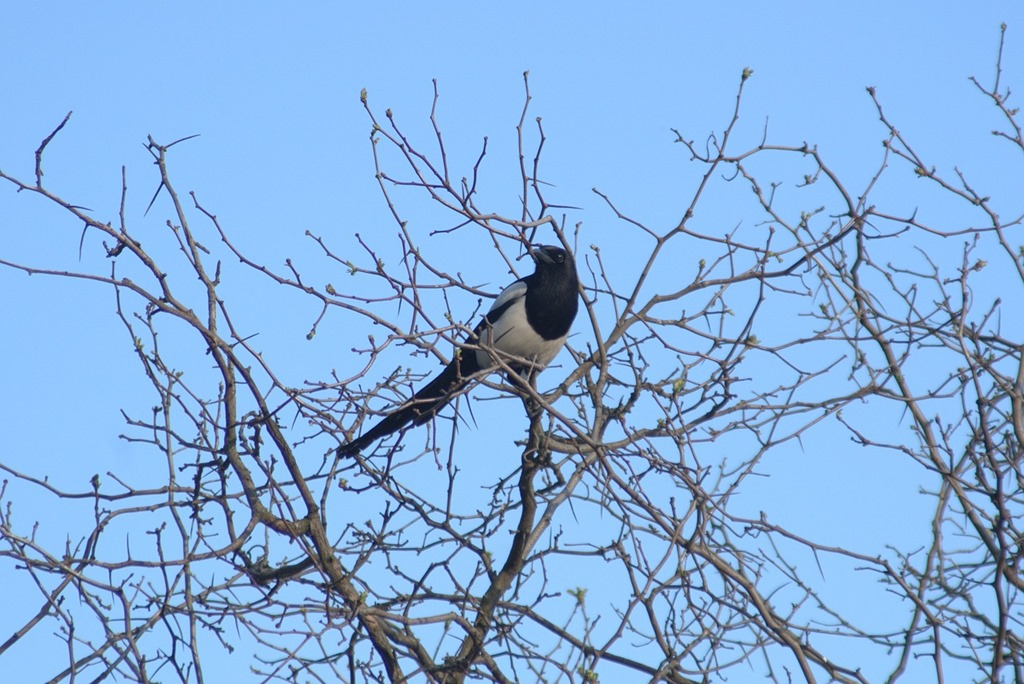magpie: (345, 243, 587, 463)
